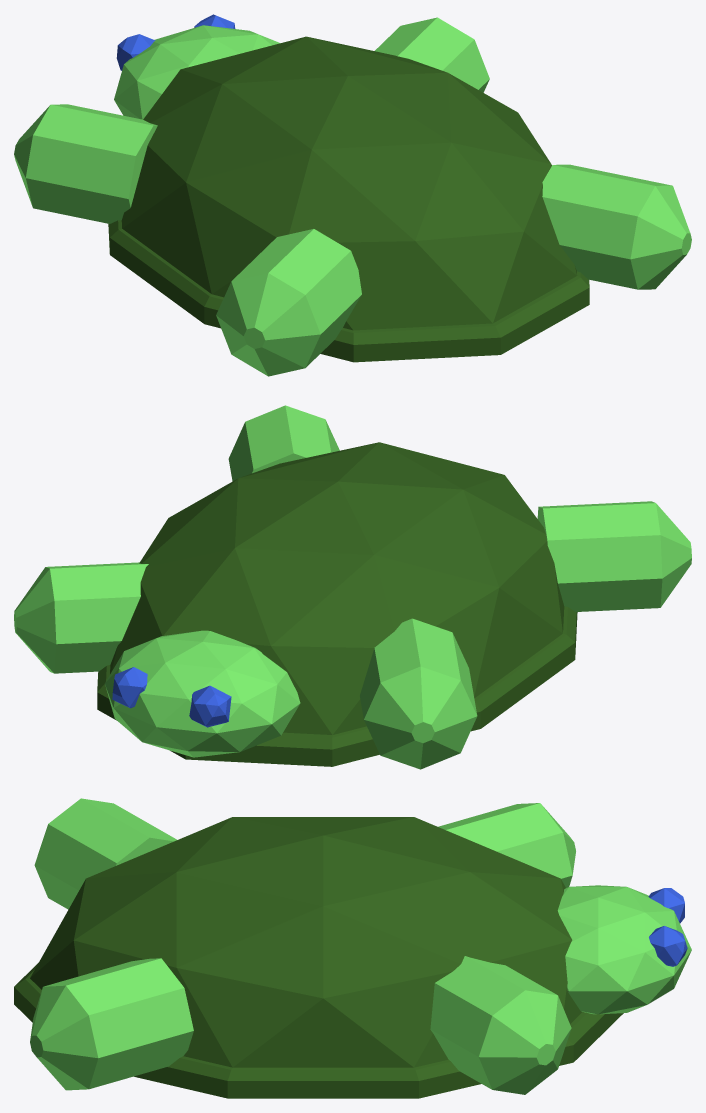
File: Turtle.fbx
3 views of the same model, one above another, from view 1: azimuth 30°, elevation 25°; view 2: azimuth 150°, elevation 25°; view 3: azimuth 270°, elevation 25° (orthographic).
Parts seen in each view (by area): view 1: Icosphere, Cylinder.002, Cylinder.003, Cylinder.001, Icosphere.003, Cylinder; view 2: Icosphere, Icosphere.003, Cylinder.002, Cylinder.001, Cylinder, Cylinder.003; view 3: Icosphere, Cylinder.003, Icosphere.003, Cylinder, Cylinder.002, Cylinder.001.
Part boxes in pixels (box(x1,y1,x2,y2)): Icosphere: box(108, 36, 589, 362); Cylinder.002: box(216, 229, 361, 376); Cylinder.003: box(542, 164, 691, 289); Cylinder.001: box(14, 104, 157, 223); Icosphere.003: box(114, 14, 280, 119); Cylinder: box(375, 17, 489, 92); Icosphere: box(97, 442, 577, 766); Icosphere.003: box(105, 630, 300, 757); Cylinder.002: box(537, 501, 691, 611); Cylinder.001: box(360, 618, 477, 769); Cylinder: box(14, 562, 148, 673); Cylinder.003: box(228, 405, 339, 481); Icosphere: box(14, 817, 623, 1098); Cylinder.003: box(30, 958, 193, 1090); Icosphere.003: box(557, 885, 691, 1014); Cylinder: box(430, 956, 571, 1094); Cylinder.002: box(34, 798, 176, 909); Cylinder.001: box(438, 803, 575, 887).
Size of the model in its own units: 180 by 63.52 by 231.
